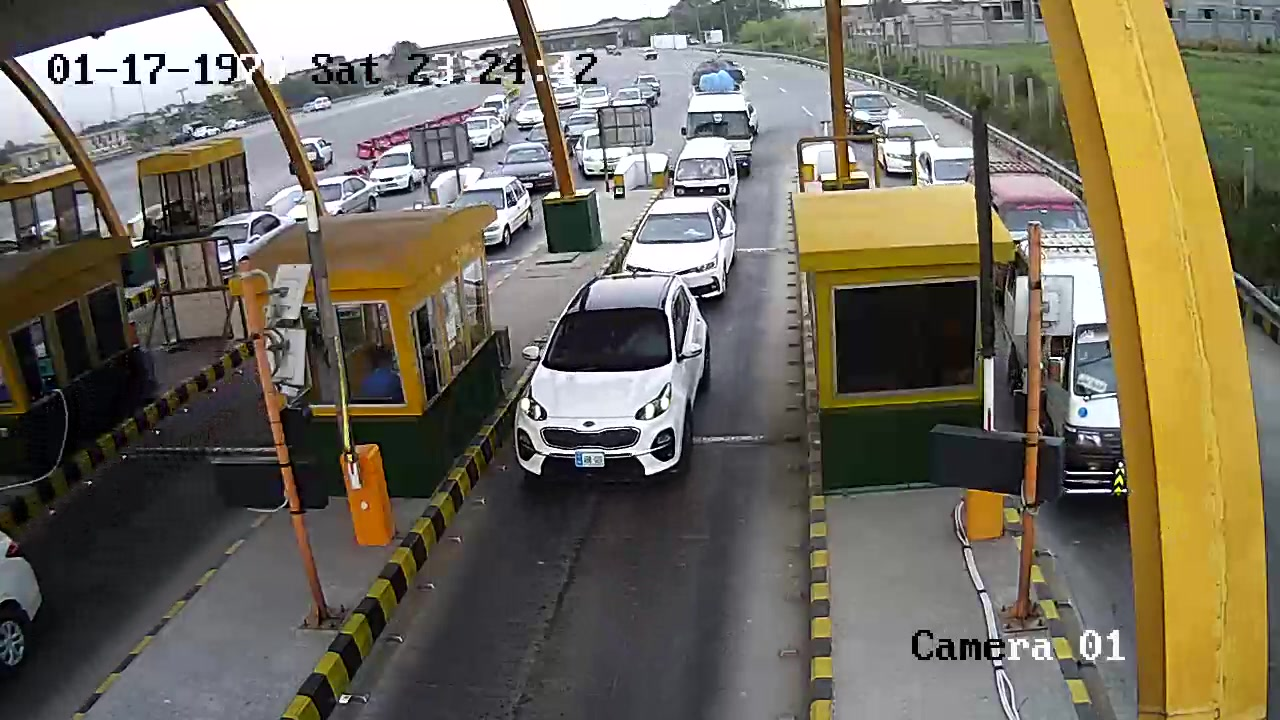F1: (508, 279, 729, 501)
